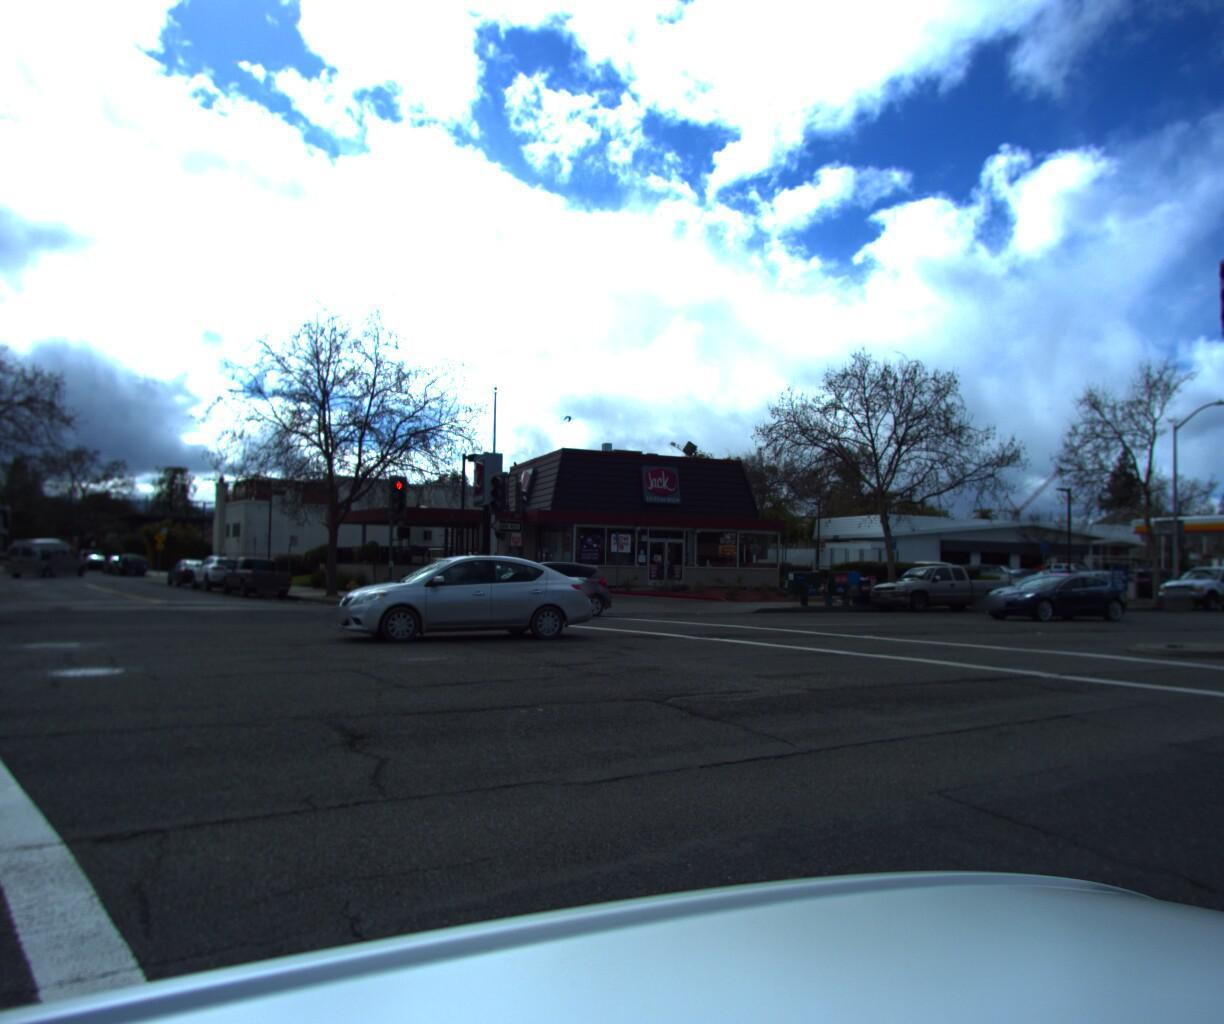car: (330, 553, 598, 650), (444, 562, 611, 622), (858, 565, 1016, 620), (977, 575, 1136, 626), (1148, 566, 1224, 618), (220, 562, 301, 606), (6, 547, 97, 583), (1110, 573, 1199, 604), (192, 561, 259, 600), (904, 562, 973, 591), (167, 565, 223, 597), (114, 555, 151, 582)
truck: (0, 449, 25, 646)
